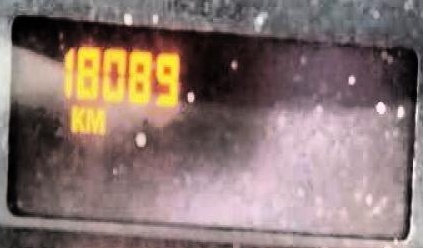0: (100, 43, 125, 102)
1: (61, 42, 74, 98)
8: (74, 41, 100, 100), (127, 47, 153, 103)
9: (154, 46, 179, 105)
X: (85, 103, 105, 133), (69, 102, 85, 132)
